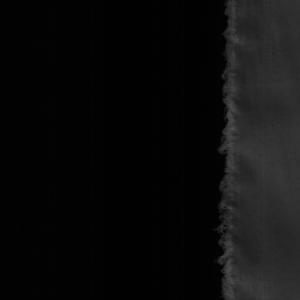Damage: (213, 1, 257, 300)
